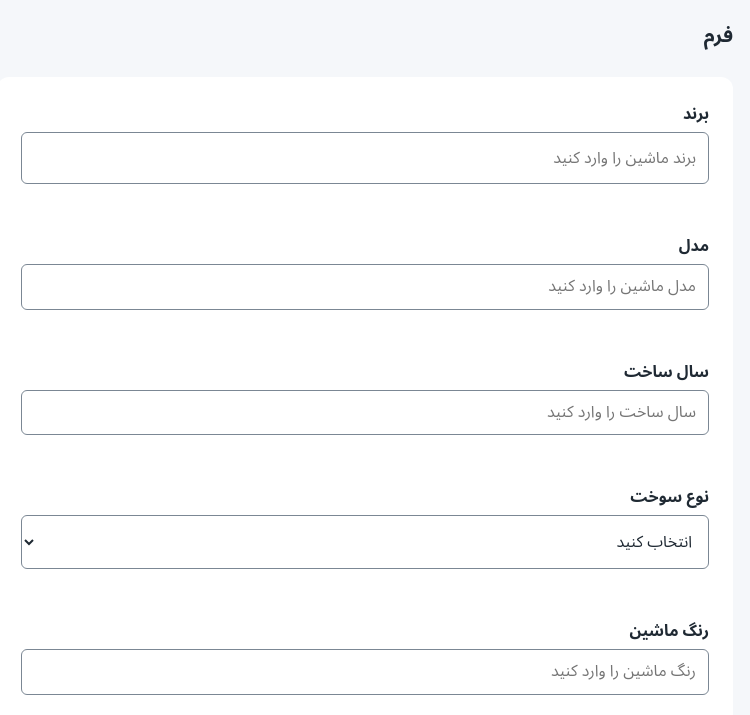
it: when the browser says it is offline › still sends the submission, and shows its failure when the request fails
In the field labelled "برند": coordinates (365, 158) [21,132,709,184], type "پژو"
(page scrolled)
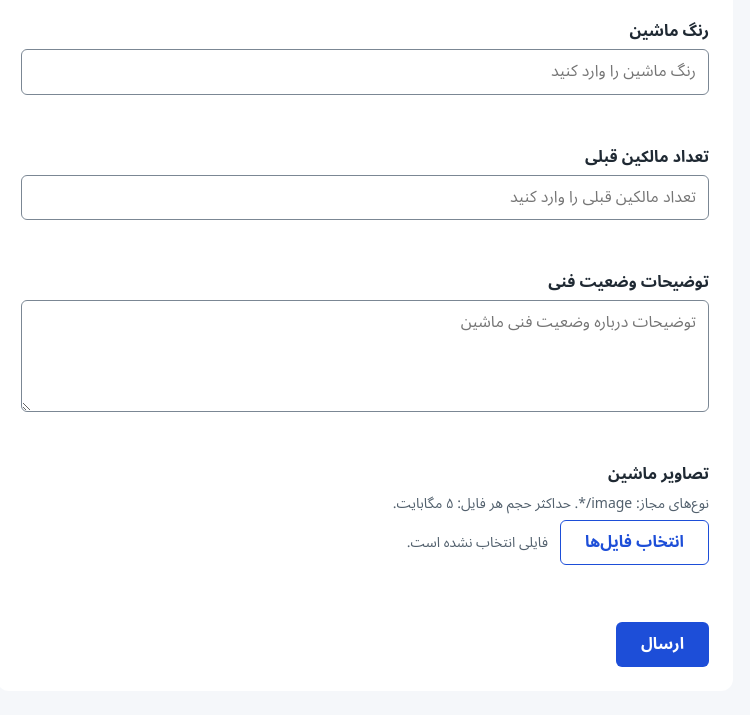
Click the button "ارسال": coordinates (662, 645) [616,622,709,667]
(page scrolled)
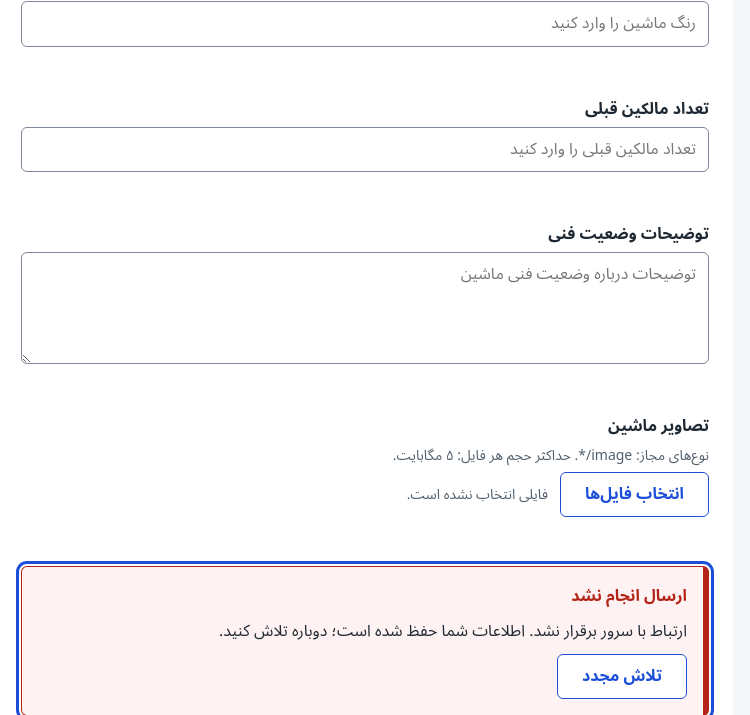
Expected: the text "ارسال انجام نشد" is shown, [571,579,687,613]
